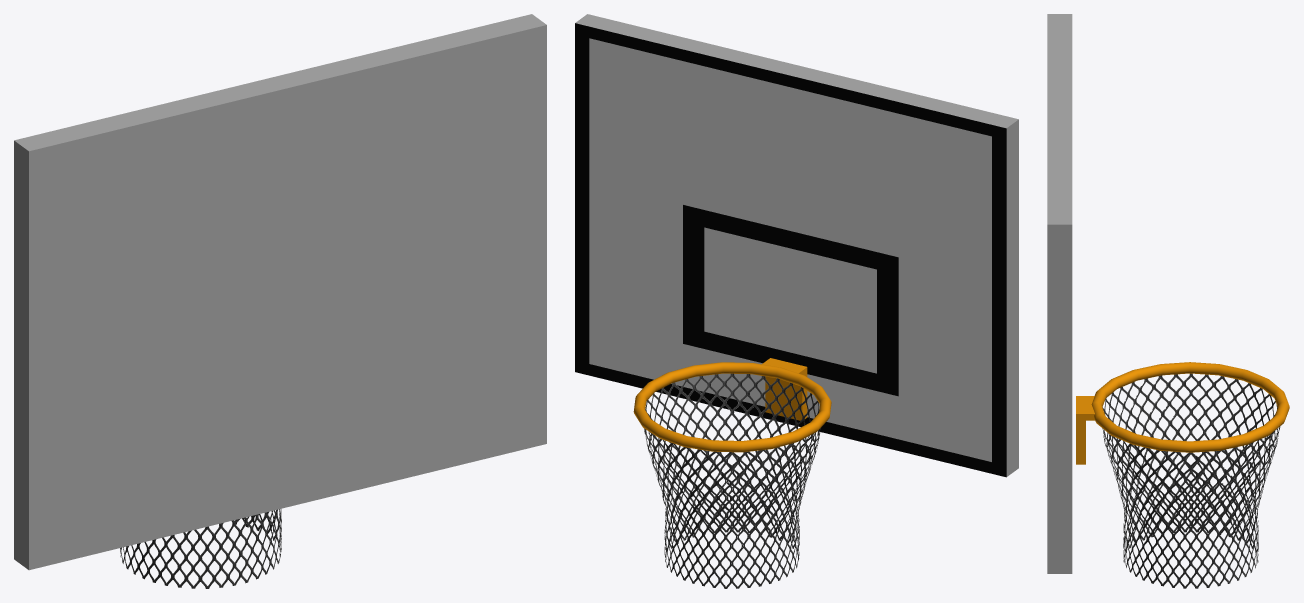
File: BasketBall hoop.fbx
The picture shows the model from 3 angles, left to right: view 1: azimuth 30°, elevation 25°; view 2: azimuth 150°, elevation 25°; view 3: azimuth 270°, elevation 25°; orthographic projection. The views are drawn at different scales.
Parts seen in each view (by area): view 1: pCube320, pCylinder2; view 2: pCube320, pCylinder2, pTorus1, pCube321; view 3: pCylinder2, pCube320, pTorus1, pCube321.
Boxes of the visible parts, box(x1,y1,x2,y2) form: pCube320: box(14, 14, 546, 570); pCylinder2: box(120, 509, 281, 588); pCube320: box(575, 14, 1018, 477); pCylinder2: box(644, 373, 820, 588); pTorus1: box(633, 362, 831, 452); pCube321: box(762, 358, 807, 420); pCylinder2: box(1102, 373, 1280, 588); pCube320: box(1047, 14, 1072, 573); pTorus1: box(1091, 362, 1289, 452); pCube321: box(1076, 396, 1094, 464).
Bounding box in the file's own units: 6 × 5.86 × 2.92.
Materials: 5 (1 with a texture image).
